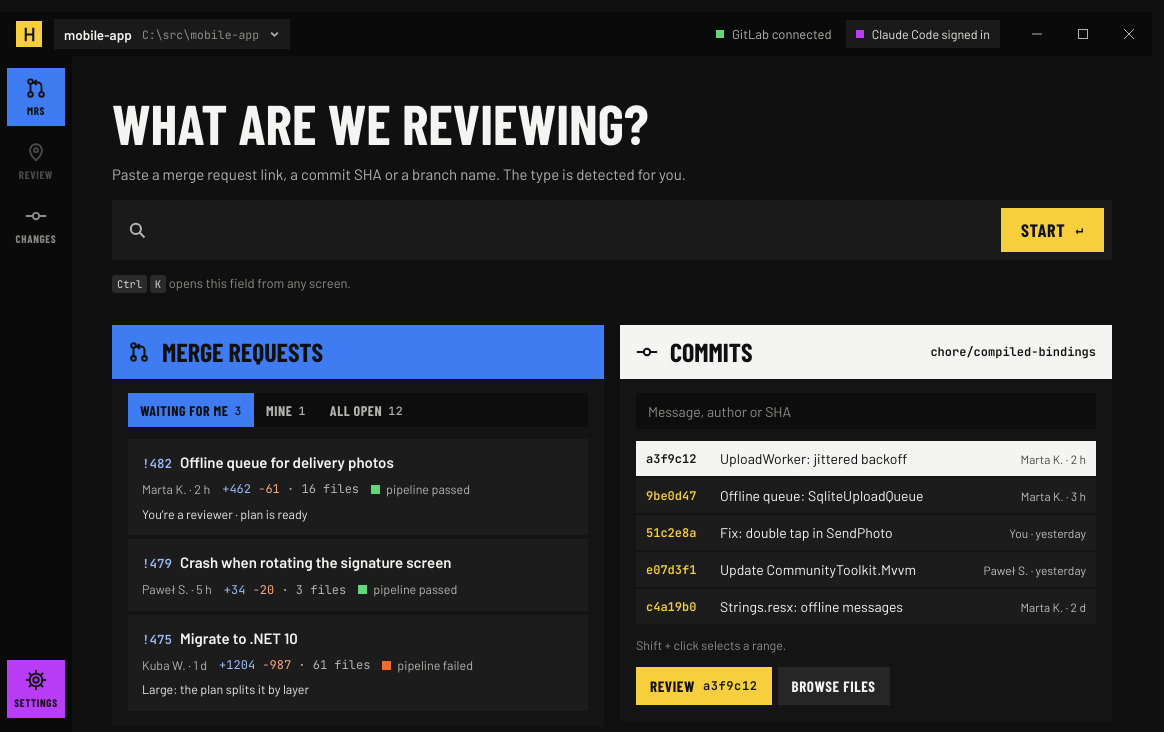
Scenario: S-01 title bar › F-30.7 the switcher lists the repositories and "Add repository…"
Click the button with aria-label "Repository mobile-app".
click(172, 34)  # box 54,19 -> 290,49
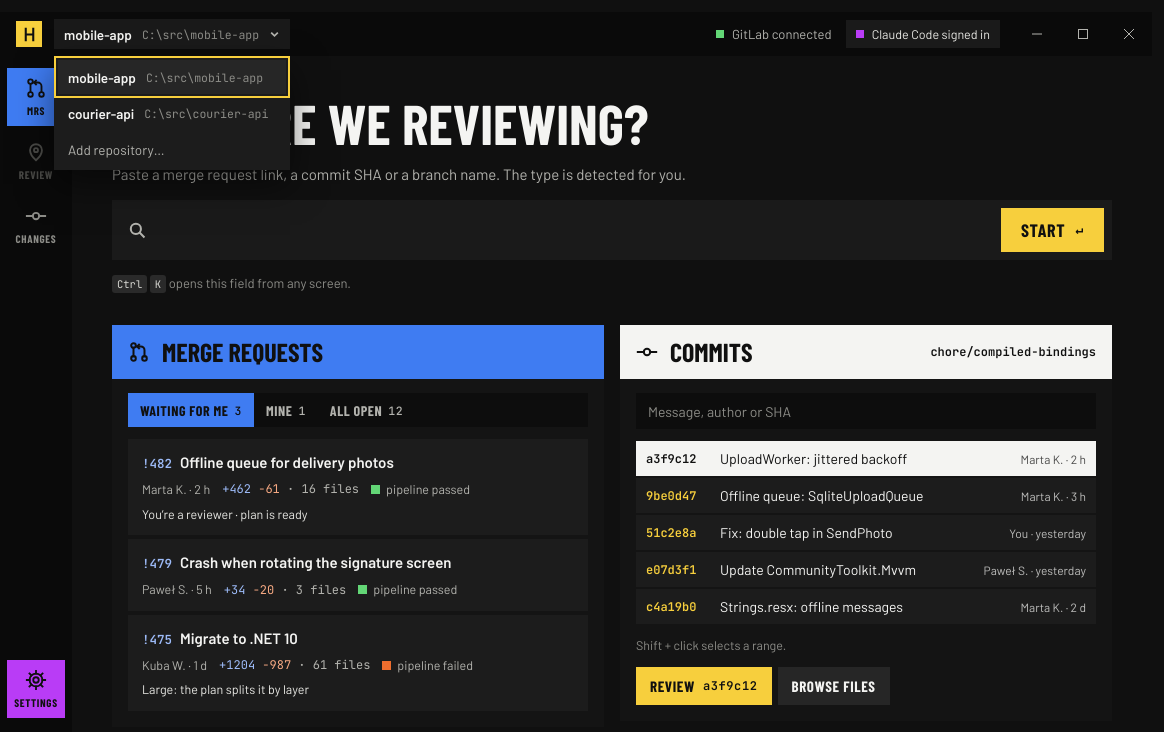
Now the menu item "courier-api C:\\src\\courier-api" is shown, box 58,96 -> 286,130
